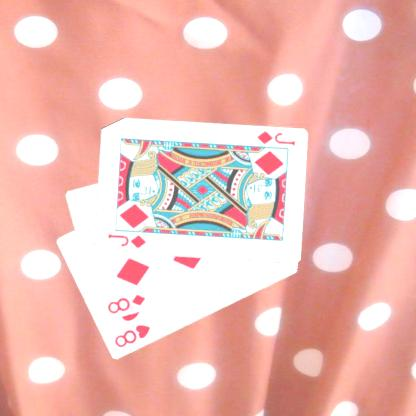8D: (104, 292, 147, 315)
8H: (111, 322, 152, 349)
JD: (105, 230, 147, 249), (254, 128, 296, 147)
